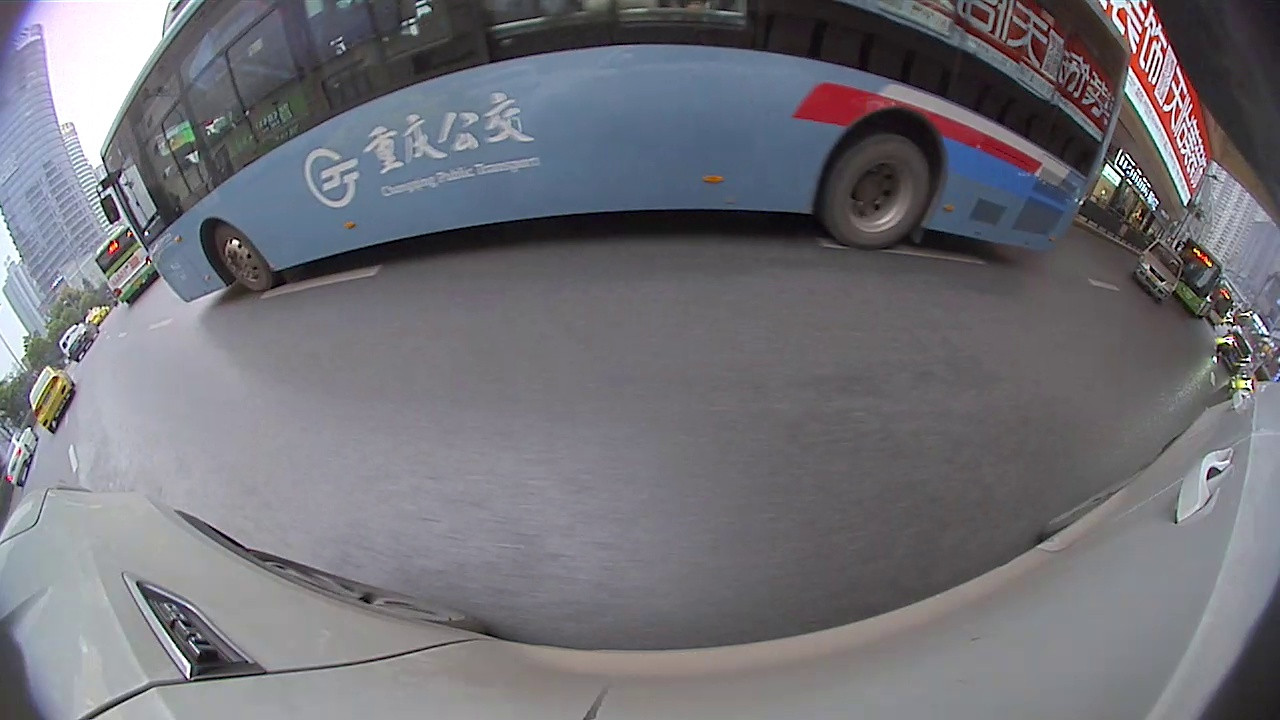car: (751, 49, 1053, 286), (29, 235, 137, 347), (1103, 272, 1192, 365), (1211, 430, 1277, 547), (1089, 244, 1147, 288), (1189, 353, 1232, 410)
front: (1008, 244, 1049, 288), (59, 319, 85, 349)
rear: (852, 192, 919, 258)
